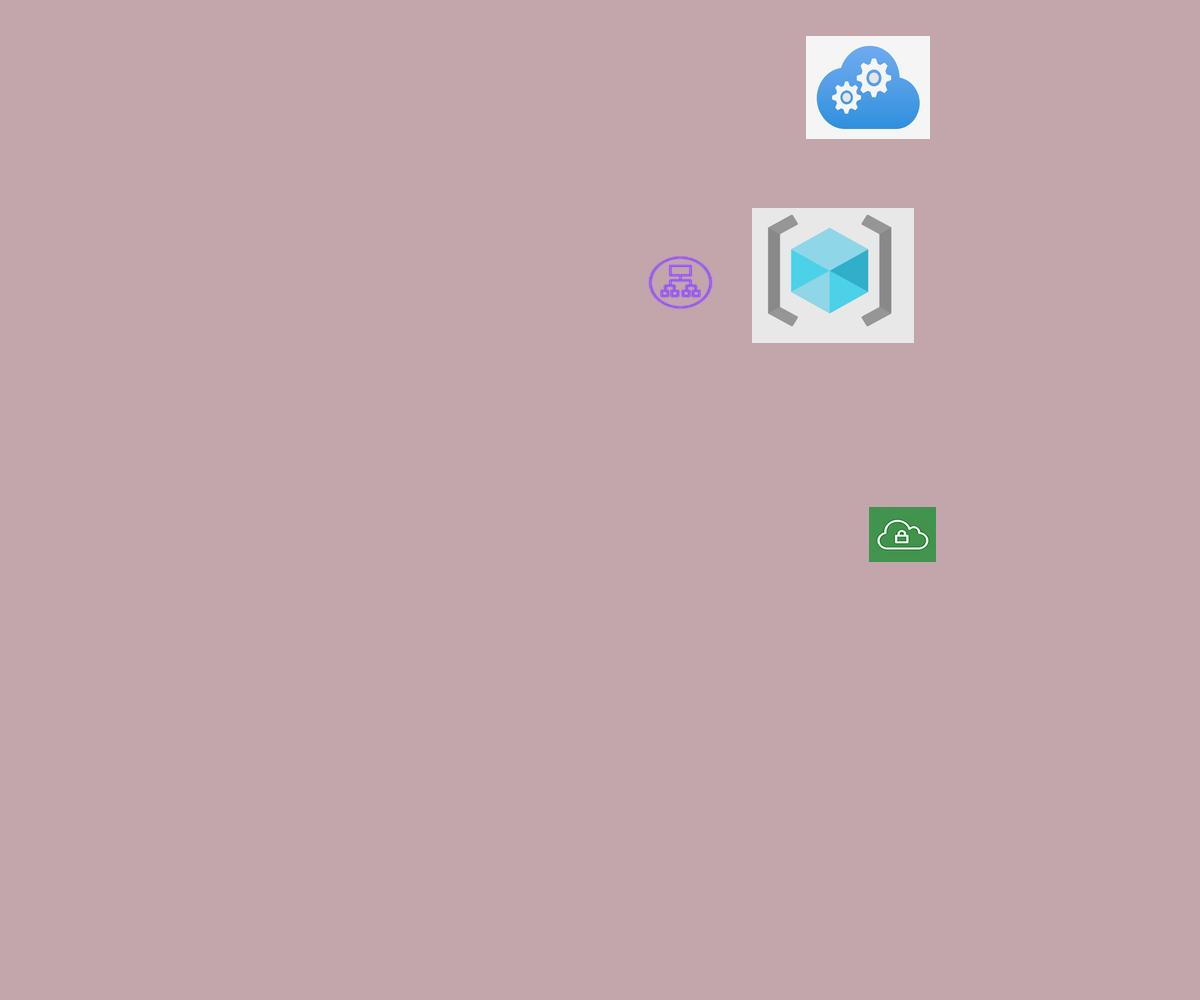AWS-Private_vpc: (869, 507, 936, 562)
AWS-Res_Elastic-Load-Balancing_Application-Load-Balancer: (646, 254, 715, 311)
Azure_cloud_services: (806, 36, 930, 139)
Azure_resource_group: (752, 208, 914, 343)
